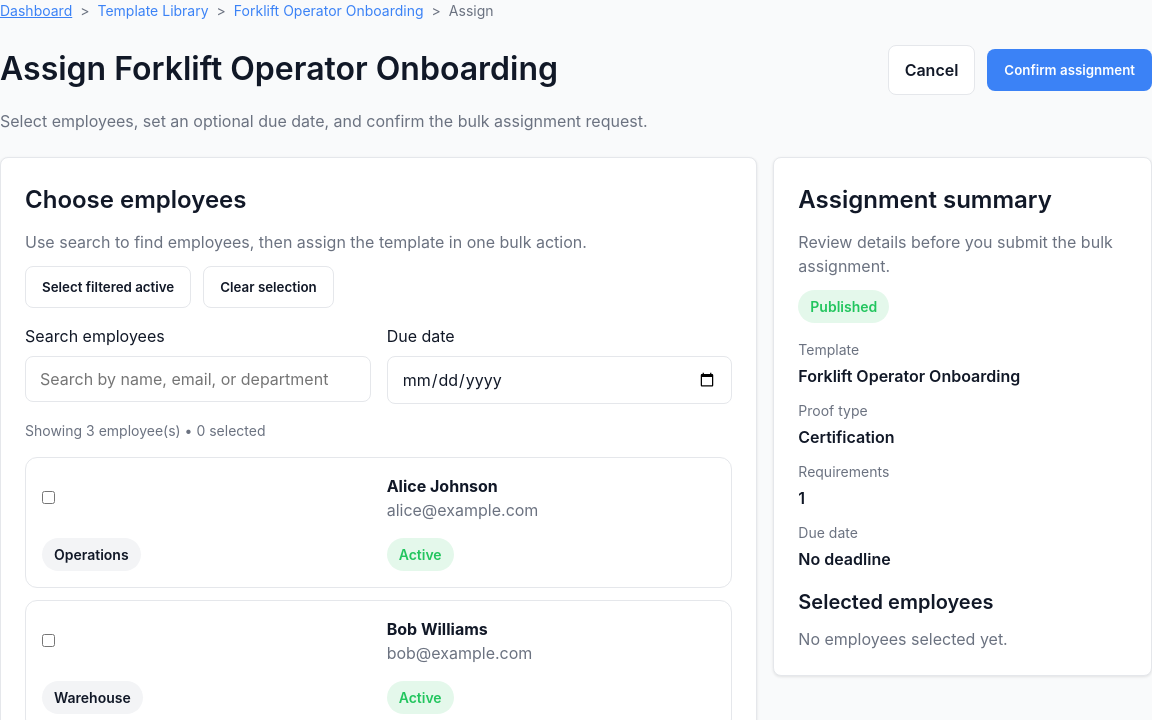
TemplateAssignPage › allows searching employees by name
Expected: the text "Alice Johnson" is shown, [387,476,498,496]
Type "alice" into the field with placeholder "Search by name, email, or department" at (198, 379), box [25,356,371,402]
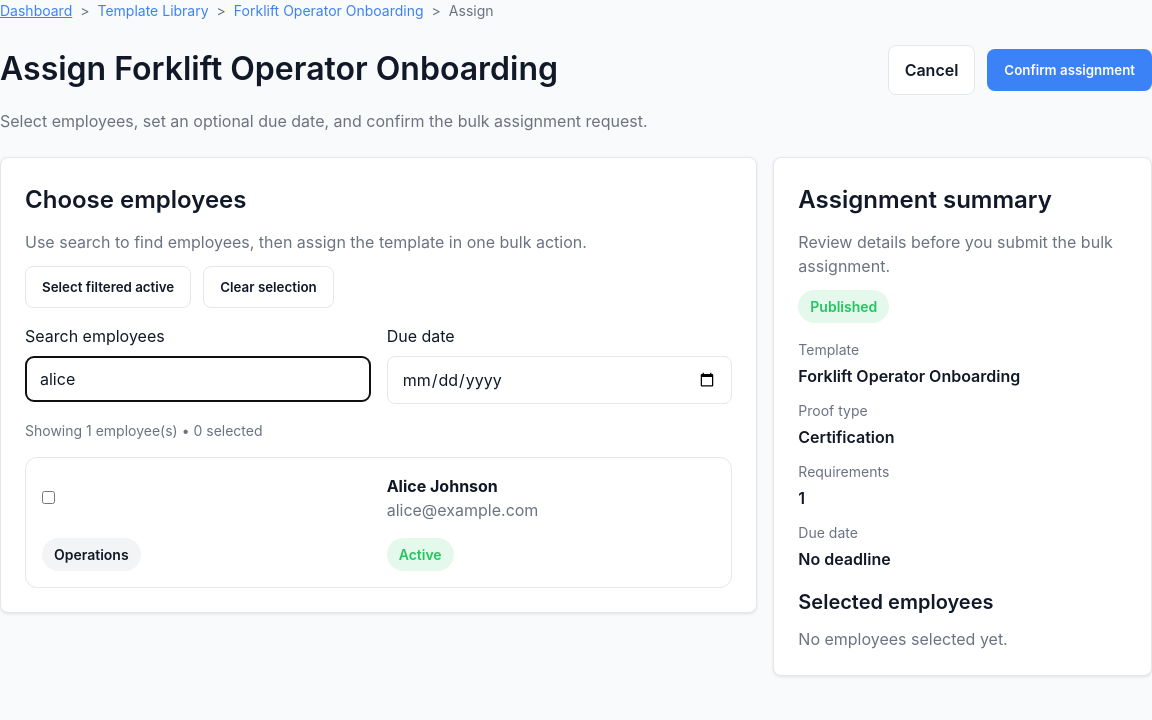
Expected: the text "Alice Johnson" is shown, [387,476,498,496]
Result: the text "Bob Williams" is gone
